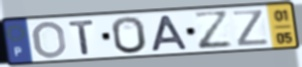A: (150, 14, 191, 53)
O: (110, 15, 149, 55), (31, 20, 68, 60)
T: (67, 19, 97, 57)
Z: (191, 10, 235, 52), (231, 9, 271, 48)
